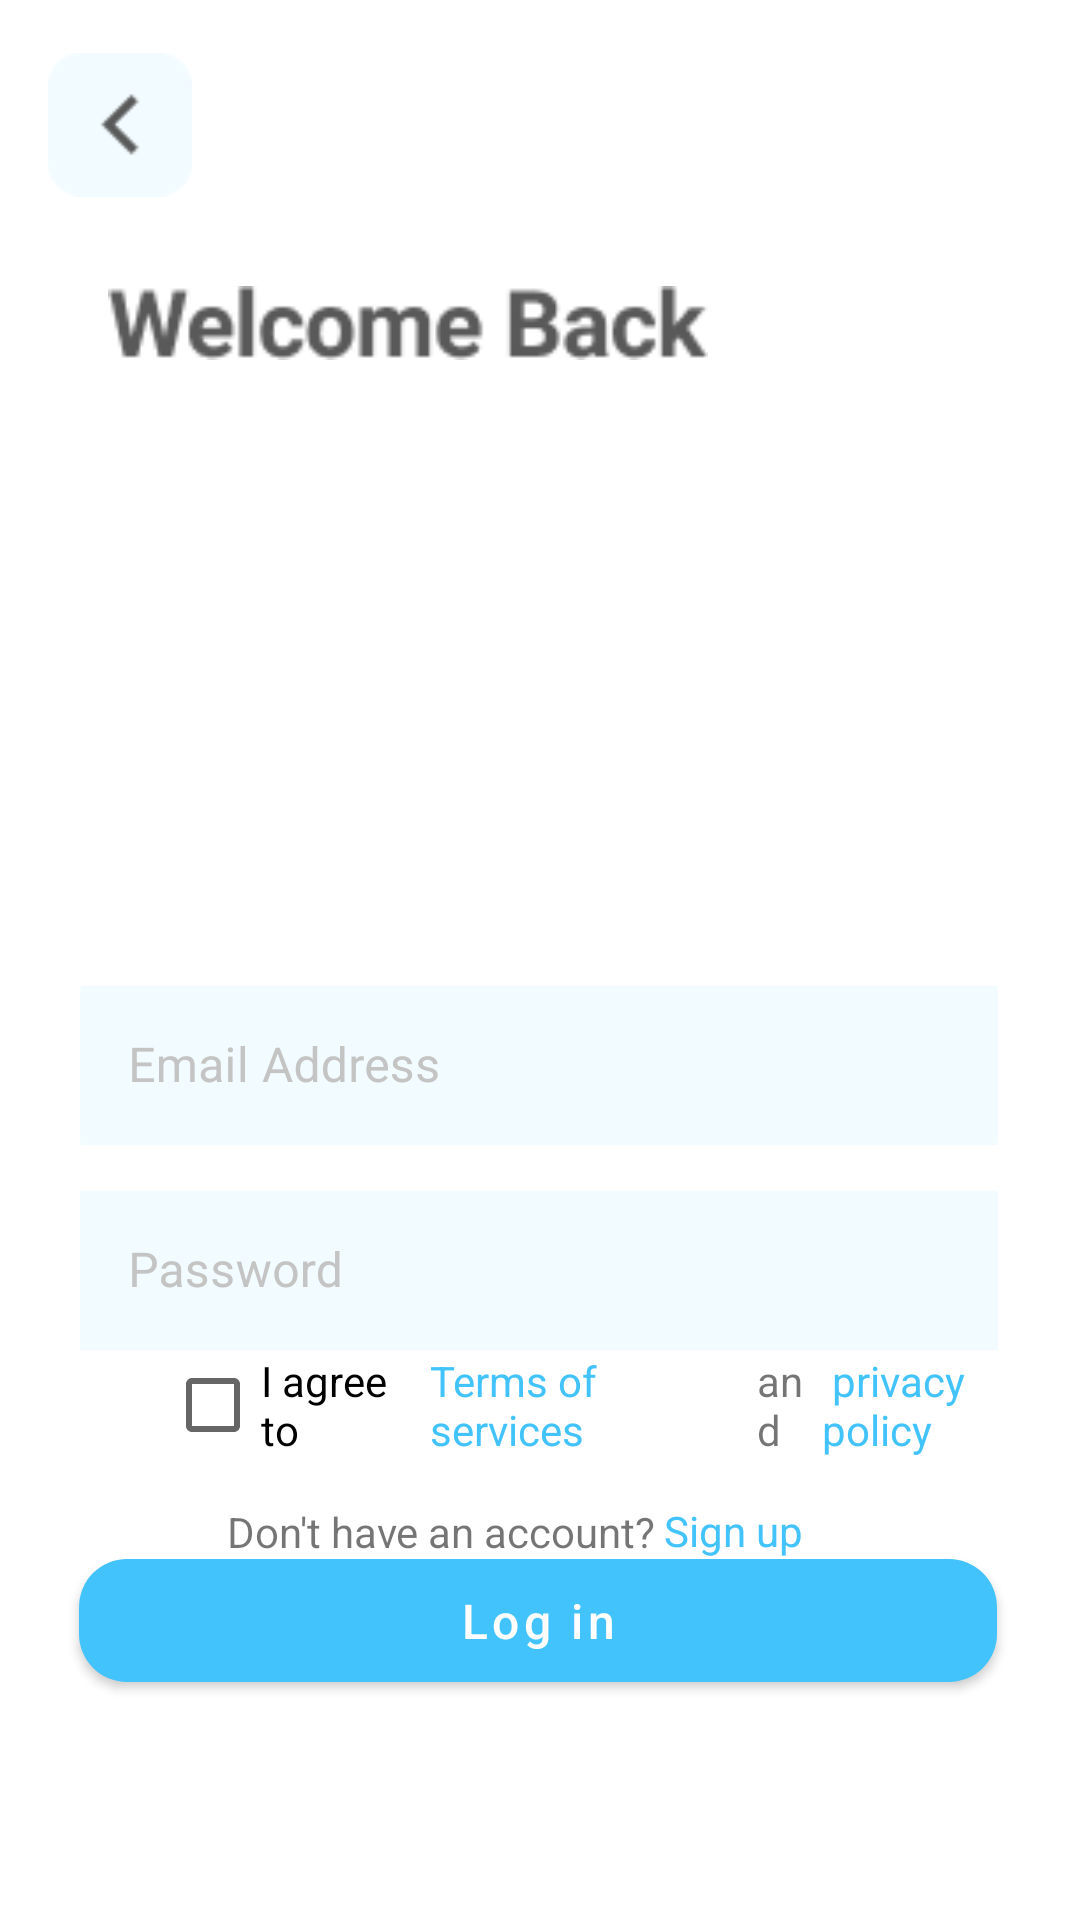

Icons on this 1080*1920 Android screen, each with its box as (x1, y1, x2, y2):
back: (48, 53, 192, 197)
